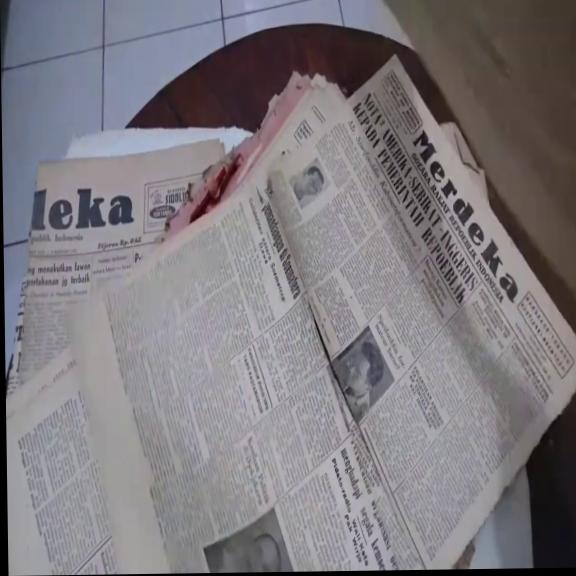Kertas: (6, 135, 252, 569), (259, 120, 463, 567)
